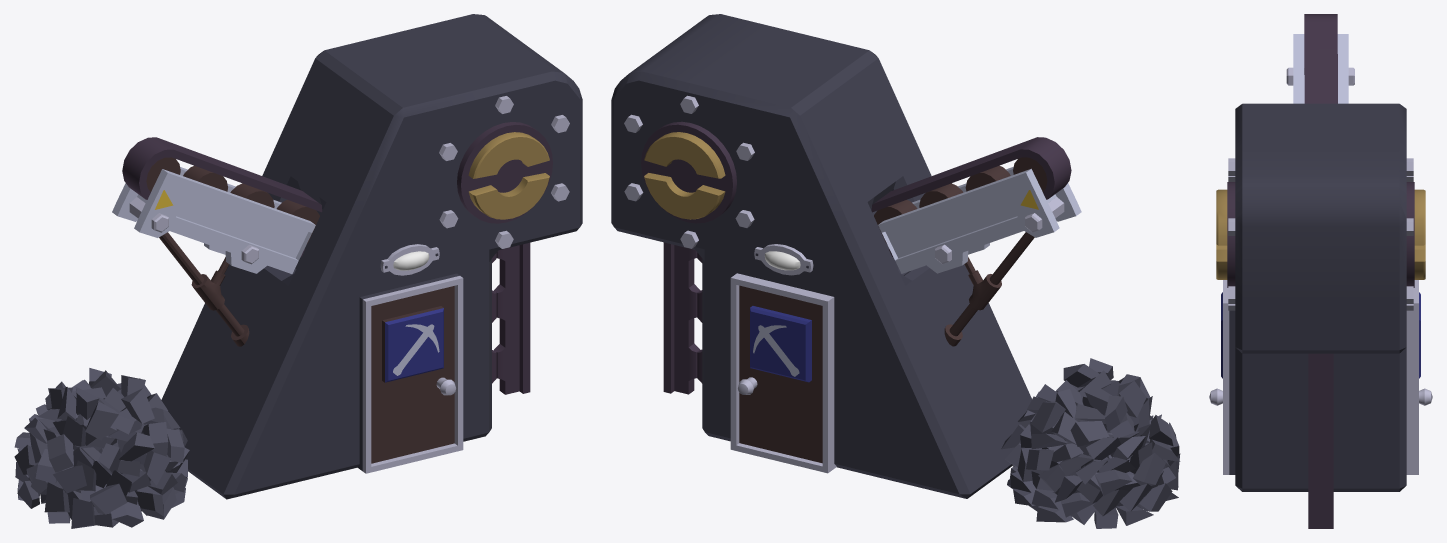
Rendered from Mine.fbx.
3 renders of one model, left to right at view 1: azimuth 30°, elevation 25°; view 2: azimuth 150°, elevation 25°; view 3: azimuth 270°, elevation 25°, orthographic.
Parts seen in each view (by area): view 1: Mine; view 2: Mine; view 3: Mine.
Boxes of the visible parts, x1,y1,x2,y2 form: Mine: [14, 14, 582, 528]; Mine: [611, 14, 1180, 528]; Mine: [1209, 14, 1432, 528].
Bounding box in the file's own units: 258 × 168 × 96.26.
